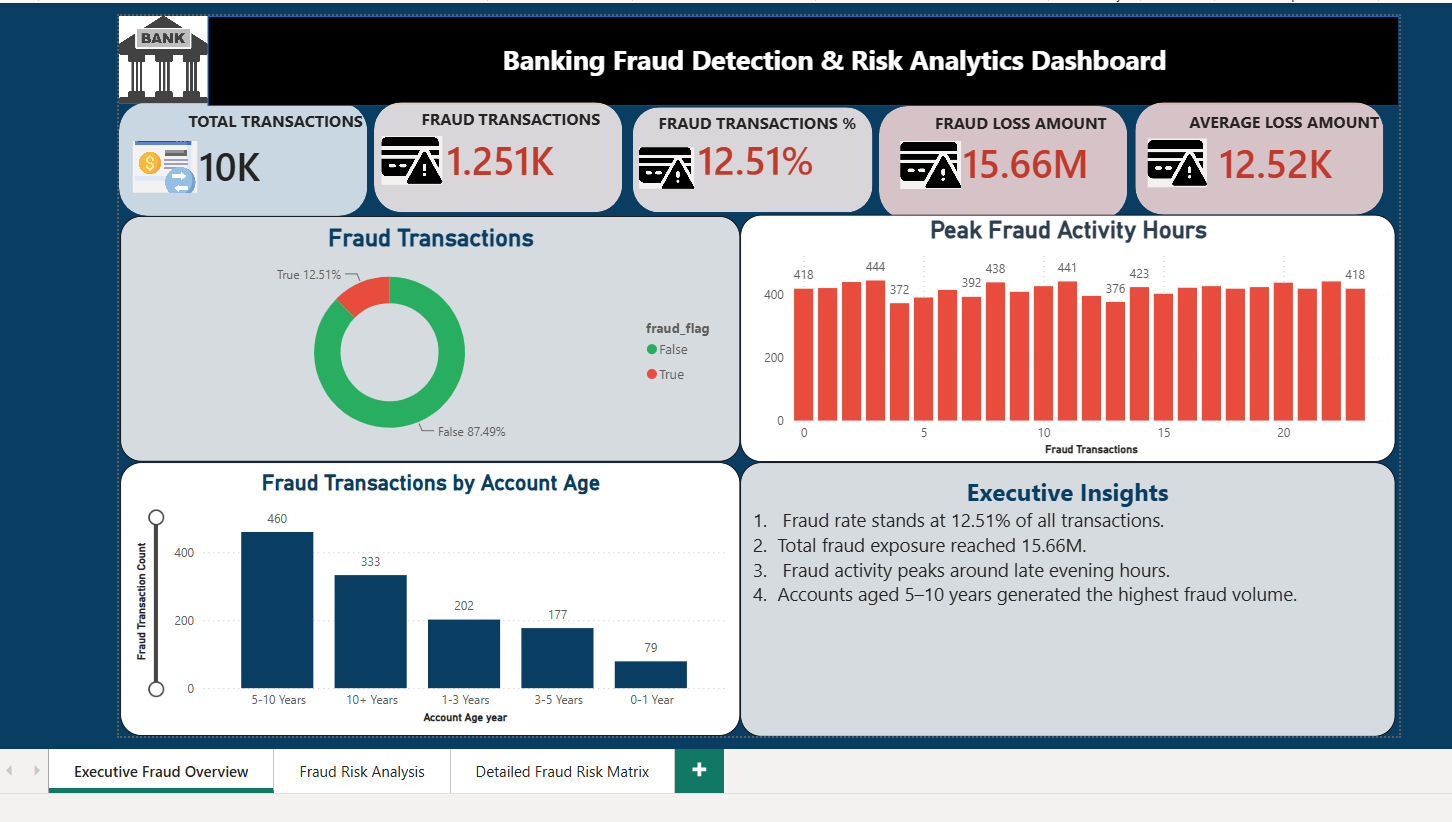

Layout of this report page (visuals, bound fields, positions):
{"tool":"powerbi","page":{"name":"Executive Fraud Overview","canvas":[1280,720],"ordinal":0},"visuals":[{"type":"group","id":"g1","title":"Group 2","box":[0,86.1,248.8,113.7],"z":0},{"type":"shape","box":[0,86.1,248.2,113.7],"z":0,"group":"g1"},{"type":"shape","box":[1015.8,86.5,248.2,112.5],"z":0,"group":"g5"},{"type":"shape","box":[255,87.2,248.2,110.1],"z":0,"group":"g2"},{"type":"shape","box":[759.9,89,248.2,113.7],"z":0,"group":"g4"},{"type":"shape","box":[513.7,90.3,239.7,105.2],"z":0,"group":"g3"},{"type":"shape","box":[88.6,0,1191.7,90],"z":1000},{"type":"actionButton","box":[262.3,120.2,61.1,49.1],"z":1000,"group":"g2"},{"type":"actionButton","box":[1029.3,122.9,59.4,48.9],"z":1000,"group":"g5"},{"type":"actionButton","box":[781.2,124.5,61.2,48.3],"z":1000,"group":"g4"},{"type":"actionButton","box":[13.2,124.6,64.5,51.7],"z":1000,"group":"g1"},{"type":"actionButton","box":[519.8,131.2,55.6,41.7],"z":1000,"group":"g3"},{"type":"textbox","box":[204.8,19.4,1014.5,52.6],"z":2000},{"type":"cardVisual","fields":{"Data":["transactions.fraud transaction"]},"box":[298.3,104.2,198.9,77.3],"z":2000,"group":"g2"},{"type":"cardVisual","fields":{"Data":["aff67cb2-d4da-42bf-8180-00035f8.Total Transactions"]},"box":[51.5,106.9,161.2,81.8],"z":2000,"group":"g1"},{"type":"cardVisual","fields":{"Data":["transactions.fraud transactions %"]},"box":[550.4,108.7,196.9,67.3],"z":2000,"group":"g3"},{"type":"cardVisual","fields":{"Data":["transactions.Fraud loss amount"]},"box":[814.2,108.8,228.8,73.6],"z":2000,"group":"g4"},{"type":"cardVisual","fields":{"Data":["transactions.Average Transaction Amount"]},"box":[1071.6,109,205.9,72.5],"z":2000,"group":"g5"},{"type":"actionButton","box":[0,0,88.6,87.2],"z":3000},{"type":"textbox","box":[499,72,243.3,55],"z":3000,"group":"g3"},{"type":"textbox","box":[749.6,72.1,243,67.1],"z":3000,"group":"g4"},{"type":"textbox","box":[258.8,86.8,227.4,39],"z":3000,"group":"g2"},{"type":"textbox","box":[0,88.4,248.8,41.7],"z":3000,"group":"g1"},{"type":"textbox","box":[1011.3,90.7,254,47.4],"z":3000,"group":"g5"},{"type":"group","id":"g2","title":"Group 2","box":[255,86.8,248.2,110.5],"z":4000},{"type":"group","id":"g3","title":"Group 2","box":[499,72,254.4,123.5],"z":5000},{"type":"group","id":"g4","title":"Group 2","box":[749.6,72.1,293.5,130.7],"z":6000},{"type":"group","id":"g5","title":"Group 2","box":[1011.3,86.5,266.3,112.5],"z":7000},{"type":"donutChart","title":"Fraud Transactions ","fields":{"Category":["transactions.fraud_flag"],"Y":["transactions.Total Transactions"]},"box":[1.2,200.5,620,245.8],"z":8000},{"type":"clusteredColumnChart","title":"Peak Fraud Activity Hours","fields":{"Category":["transactions.transaction_time_hour"],"Y":["transactions.Total Transactions"]},"box":[621.2,199.3,655.4,247],"z":9000},{"type":"clusteredColumnChart","title":"Fraud Transactions by Account Age","fields":{"Category":["transactions.Account Age year"],"Y":["transactions.Total Transactions"]},"box":[1.2,446.3,620,273.9],"z":10000},{"type":"textbox","box":[621,446,655,274],"z":11000}]}

Visuals, with their boxes on the page's 1280x720 design canvas (x1, y1, x2, y2). These are canvas units, not pixel positions in the 1452x822 screenshot, which may show the page scaled, cropped or inside an application window:
"Group 2" group: 0 86 249 200
shape: 0 86 248 200
shape: 1016 86 1264 199
shape: 255 87 503 197
shape: 760 89 1008 203
shape: 514 90 753 196
shape: 89 0 1280 90
actionButton: 262 120 323 169
actionButton: 1029 123 1089 172
actionButton: 781 124 842 173
actionButton: 13 125 78 176
actionButton: 520 131 575 173
textbox: 205 19 1219 72
cardVisual - transactions.fraud transaction: 298 104 497 182
cardVisual - aff67cb2-d4da-42bf-8180-00035f8.Total Transactions: 52 107 213 189
cardVisual - transactions.fraud transactions %: 550 109 747 176
cardVisual - transactions.Fraud loss amount: 814 109 1043 182
cardVisual - transactions.Average Transaction Amount: 1072 109 1278 182
actionButton: 0 0 89 87
textbox: 499 72 742 127
textbox: 750 72 993 139
textbox: 259 87 486 126
textbox: 0 88 249 130
textbox: 1011 91 1265 138
"Group 2" group: 255 87 503 197
"Group 2" group: 499 72 753 196
"Group 2" group: 750 72 1043 203
"Group 2" group: 1011 86 1278 199
"Fraud Transactions " donutChart: 1 200 621 446
"Peak Fraud Activity Hours" clusteredColumnChart: 621 199 1277 446
"Fraud Transactions by Account Age" clusteredColumnChart: 1 446 621 720
textbox: 621 446 1276 720
